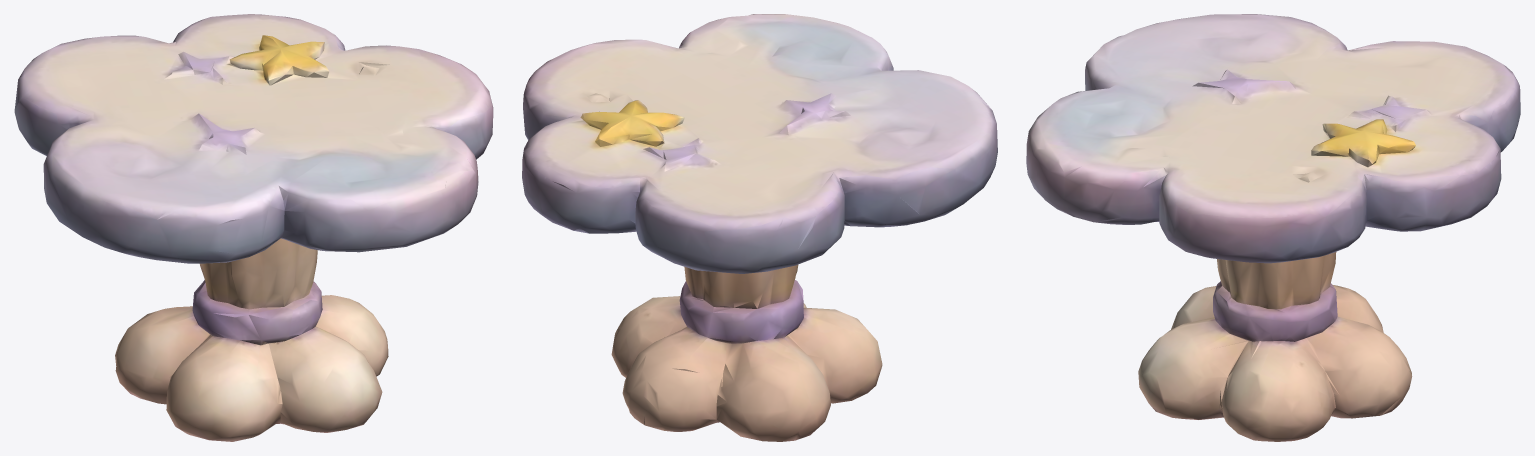
Rendered from table10.glb.
The picture shows the model from 3 angles, left to right: view 1: azimuth 30°, elevation 25°; view 2: azimuth 150°, elevation 25°; view 3: azimuth 270°, elevation 25°; orthographic projection.
Size of the model in its own units: 0.2287 by 0.1511 by 0.2314.
1 material, 1 textured.
